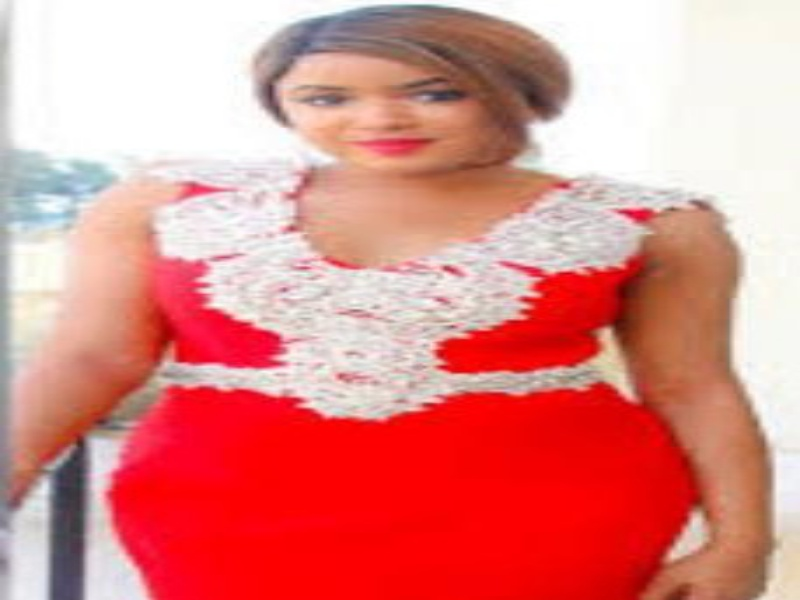TsisyArotava: (240, 1, 568, 209)
